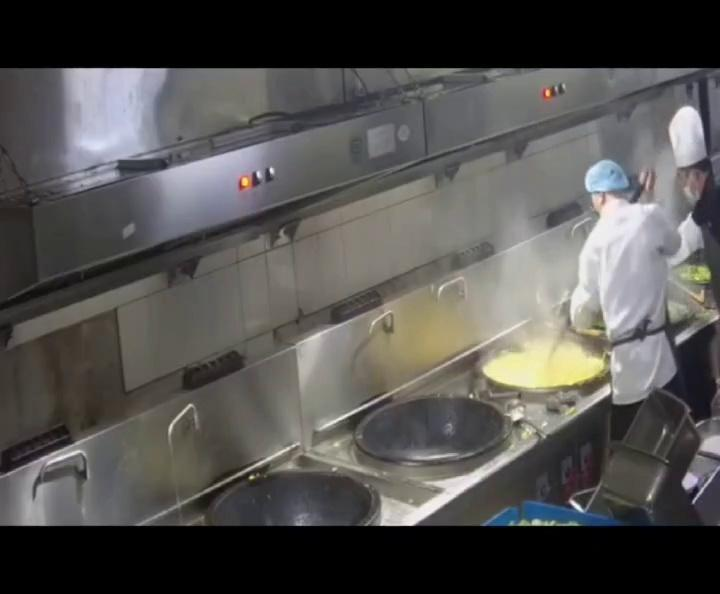gloves: (584, 159, 631, 193)
